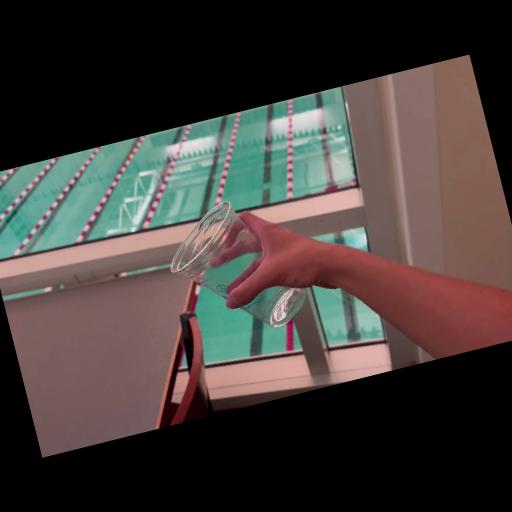lp_plastic_cup: (154, 184, 316, 353)
